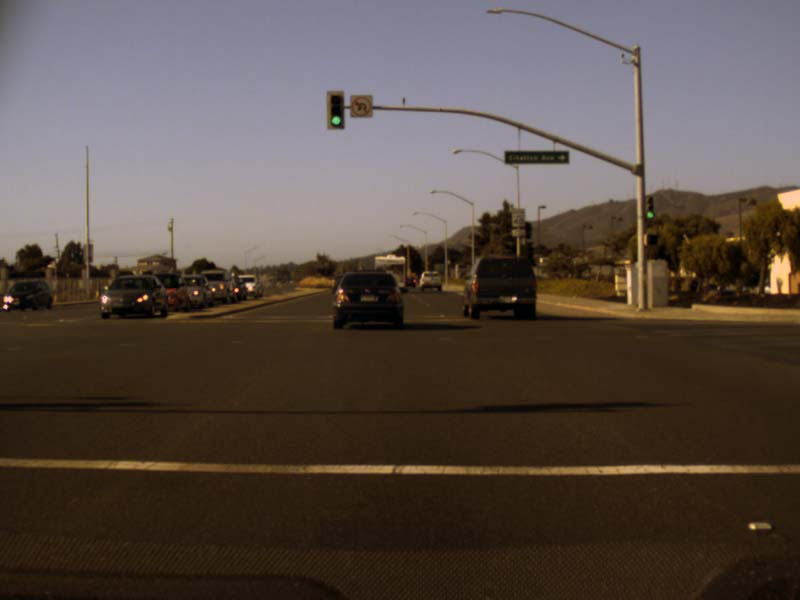Green: (326, 90, 344, 130), (643, 195, 655, 220)
